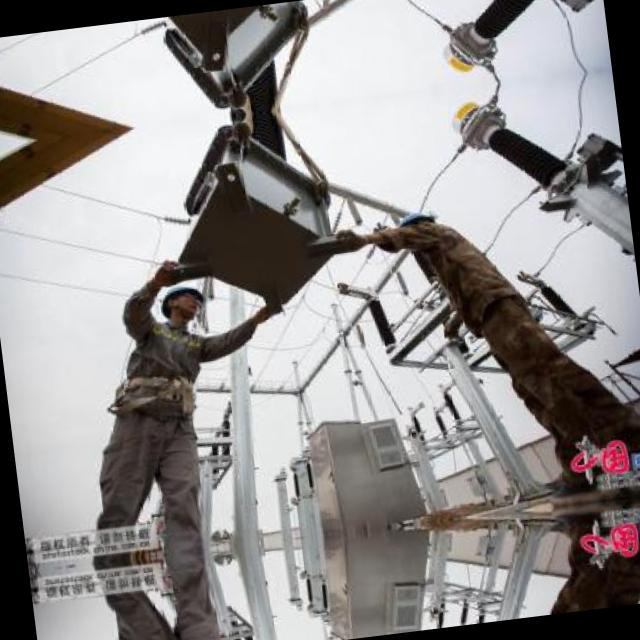helmet: (151, 274, 209, 332), (392, 207, 441, 254)
